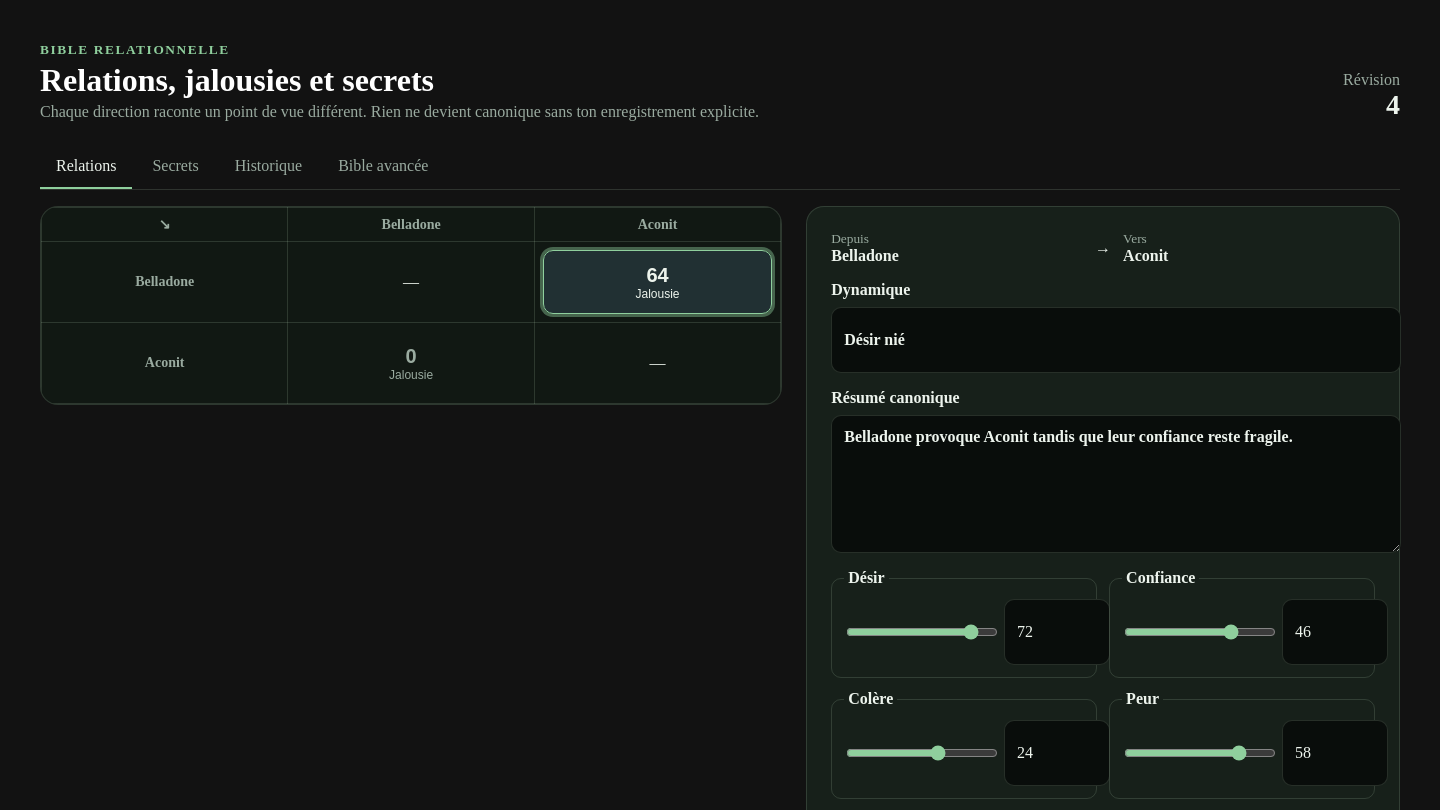
Scenario: RelationshipBoard › keeps the advanced legacy Bible reachable on demand
Check: the text "Legacy Bible fixture" is not shown
Click the tab "Bible avancée".
click(383, 167)  # box [322,145,444,189]
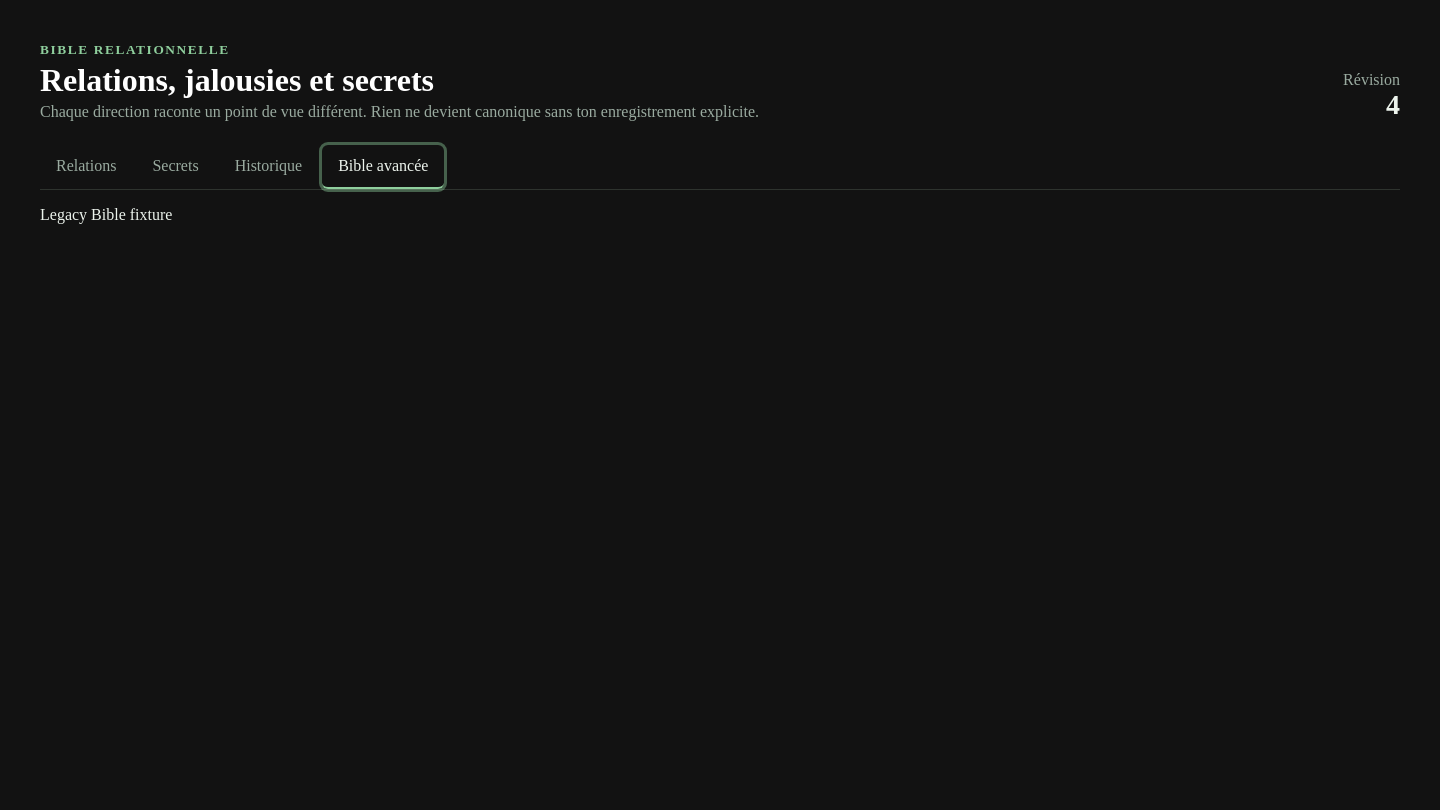
Check: the text "Legacy Bible fixture" is shown, box [40,206,172,223]
